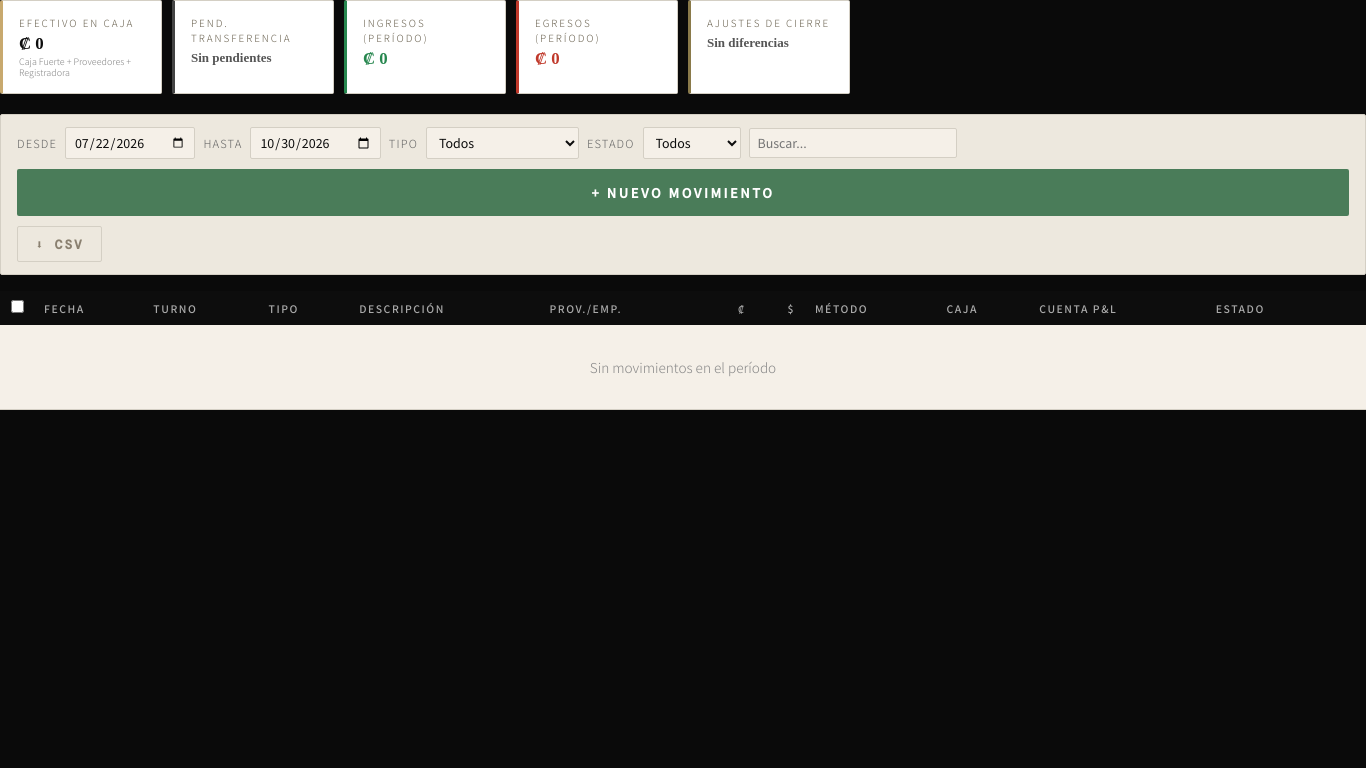
Test: CashMovimientos · Nuevo movimiento — el input por rol › cajero: input fijo en hoy (min = max = hoy) + mensaje de pedir encargado
Click the button "+ Nuevo movimiento".
click(683, 192)  # box [17,169,1349,216]
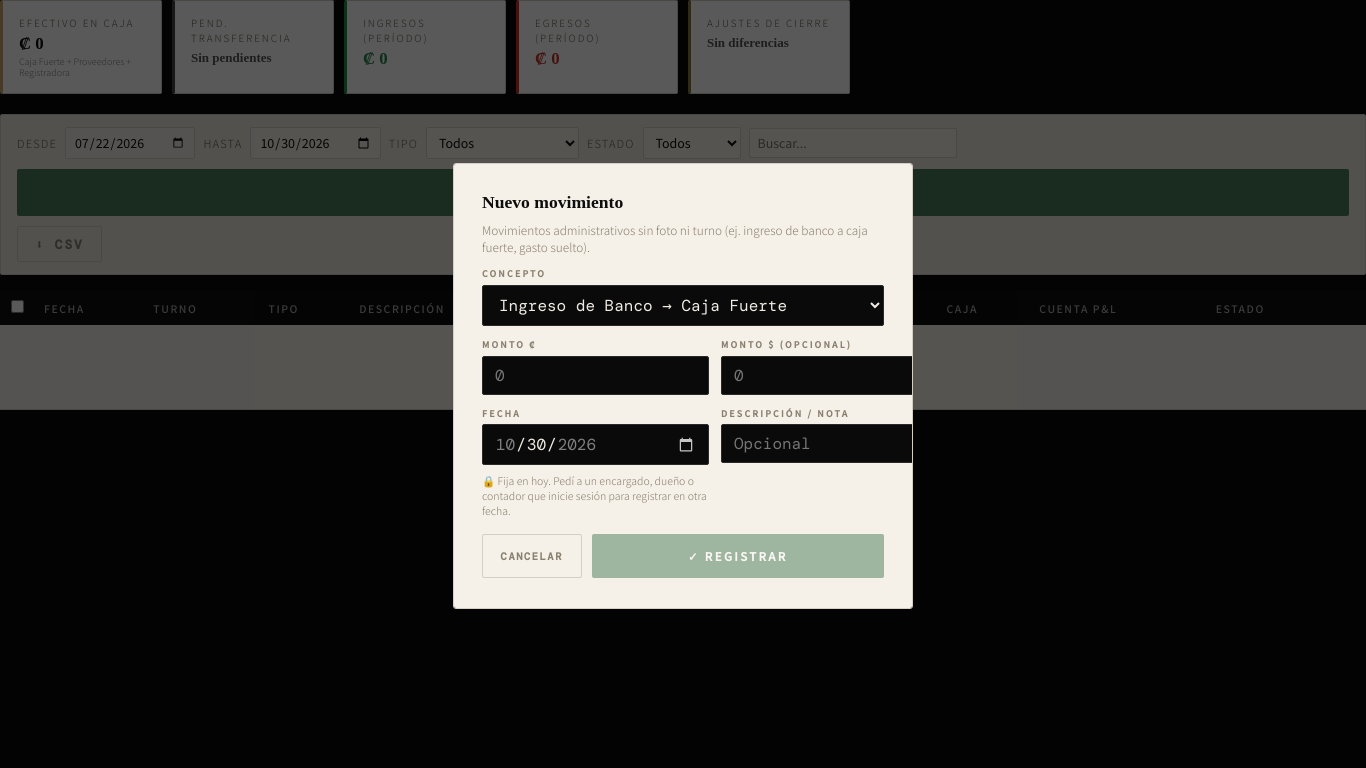
Expected: the text "Pedí a un encargado, dueño o contador" is shown, [482,473,707,518]
